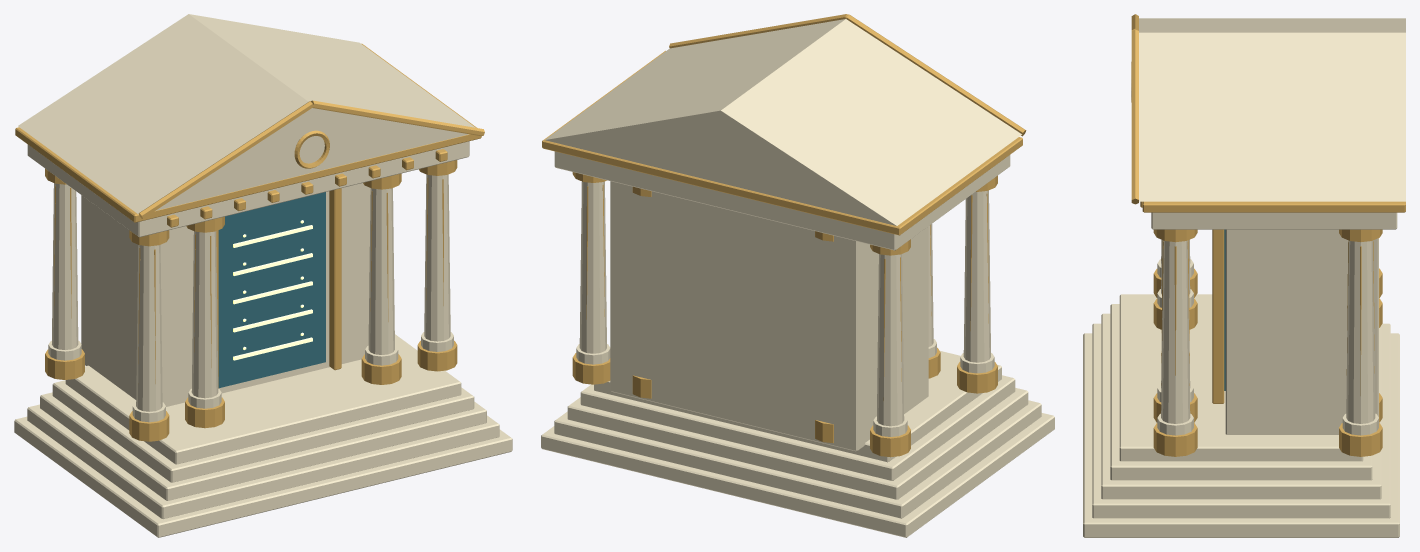
Rendered from d5_server_temple.glb.
3 views of the same model, side by side, from view 1: azimuth 30°, elevation 25°; view 2: azimuth 150°, elevation 25°; view 3: azimuth 270°, elevation 25° (orthographic). The views are drawn at different scales.
Visible parts, largest first — view 1: d5_server_temple__d5-alabaster, d5_server_temple__d5-gold, d5_server_temple__d5-inner-teal, d5_server_temple__d5-emissive-gold; view 2: d5_server_temple__d5-alabaster, d5_server_temple__d5-gold; view 3: d5_server_temple__d5-alabaster, d5_server_temple__d5-gold.
Part boxes in pixels (x1,y1,x2,y2): d5_server_temple__d5-alabaster: [14, 14, 512, 537]; d5_server_temple__d5-gold: [15, 43, 484, 441]; d5_server_temple__d5-inner-teal: [218, 192, 325, 388]; d5_server_temple__d5-emissive-gold: [233, 220, 312, 360]; d5_server_temple__d5-alabaster: [541, 19, 1054, 537]; d5_server_temple__d5-gold: [542, 14, 1026, 457]; d5_server_temple__d5-alabaster: [1083, 18, 1405, 537]; d5_server_temple__d5-gold: [1131, 14, 1405, 456].
Size of the model in its own units: 58 by 58.82 by 41.54.
